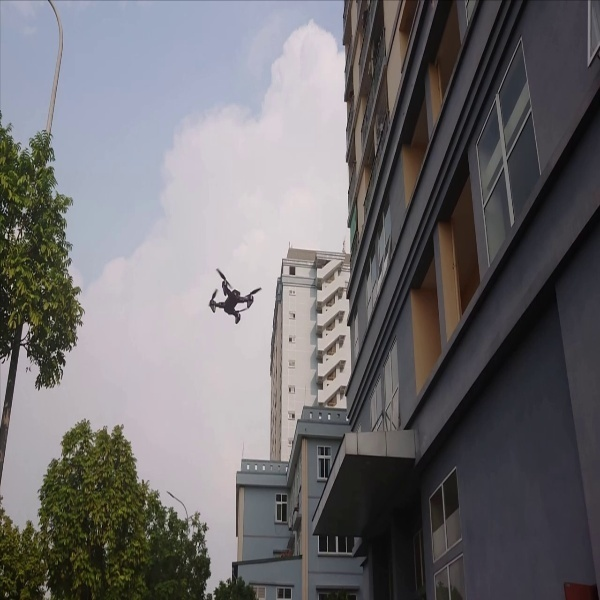drone: (193, 256, 265, 326)
